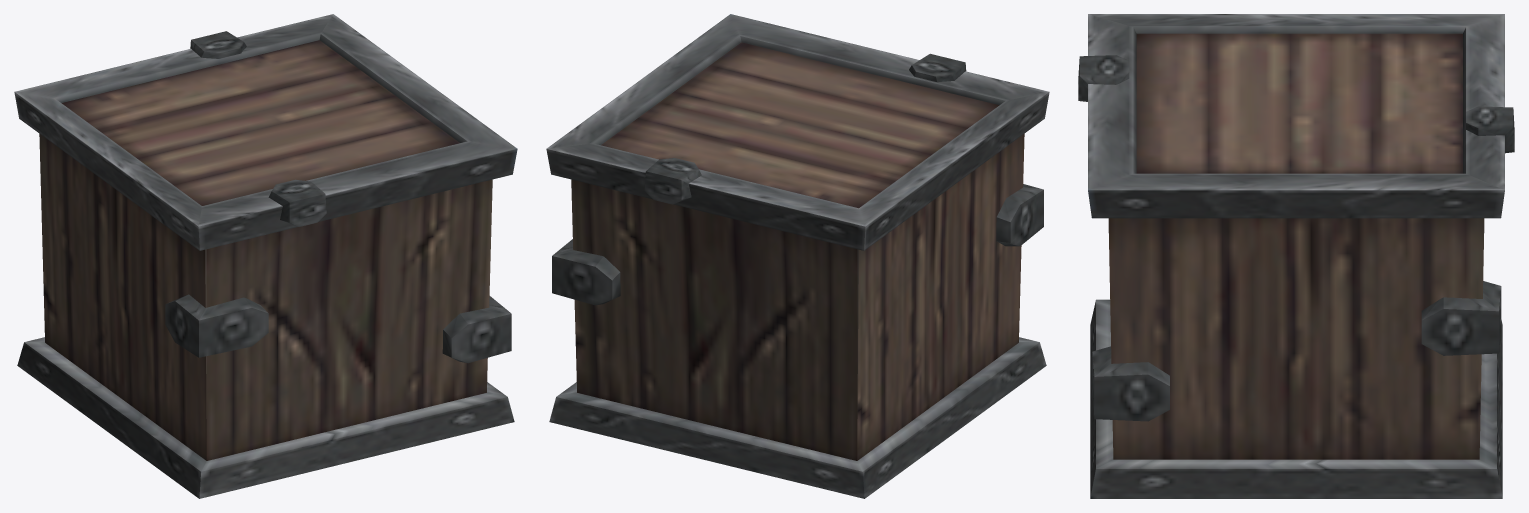
File: SM_EN_1002_muxiang01.FBX
The picture shows the model from 3 angles, left to right: view 1: azimuth 30°, elevation 25°; view 2: azimuth 150°, elevation 25°; view 3: azimuth 270°, elevation 25°; orthographic projection. The views are drawn at different scales.
Visible parts, largest first — view 1: SM_EN_1002_muxiang01; view 2: SM_EN_1002_muxiang01; view 3: SM_EN_1002_muxiang01.
Part boxes in pixels (x1,y1,x2,y2): SM_EN_1002_muxiang01: (14,14,517,498); SM_EN_1002_muxiang01: (546,14,1049,498); SM_EN_1002_muxiang01: (1078,14,1514,498).
Size of the model in its own units: 38.11 by 31.83 by 39.85.
